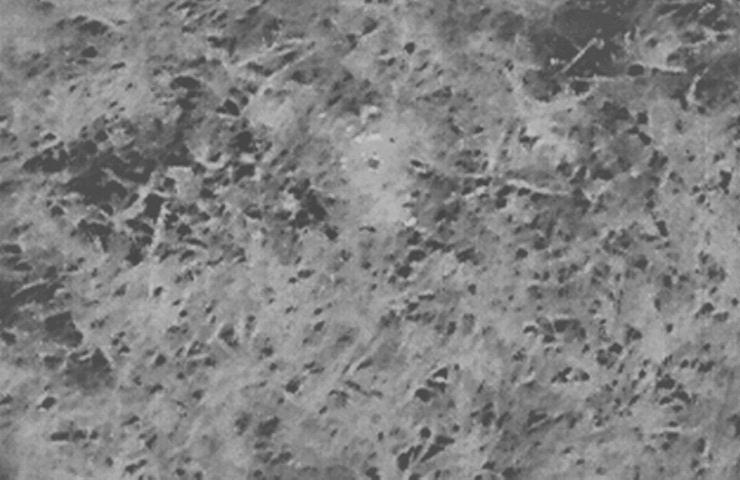landmines: (338, 130, 408, 193)
